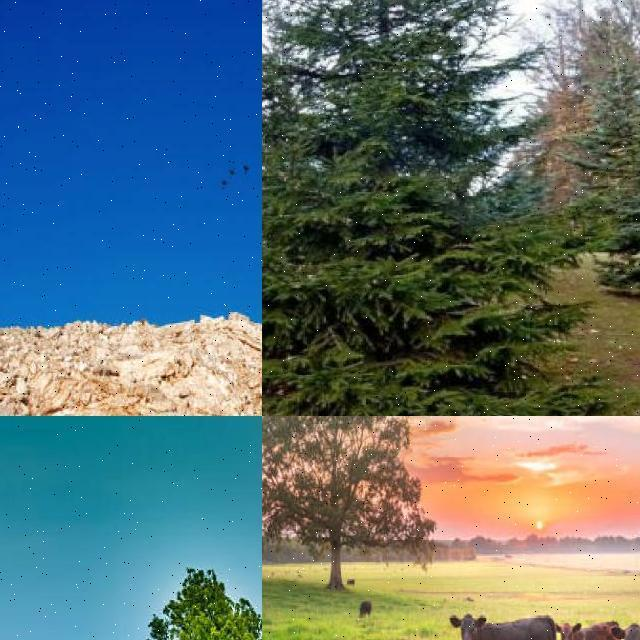tree: (262, 0, 640, 416), (262, 416, 430, 596), (562, 17, 640, 300), (128, 564, 262, 640)
